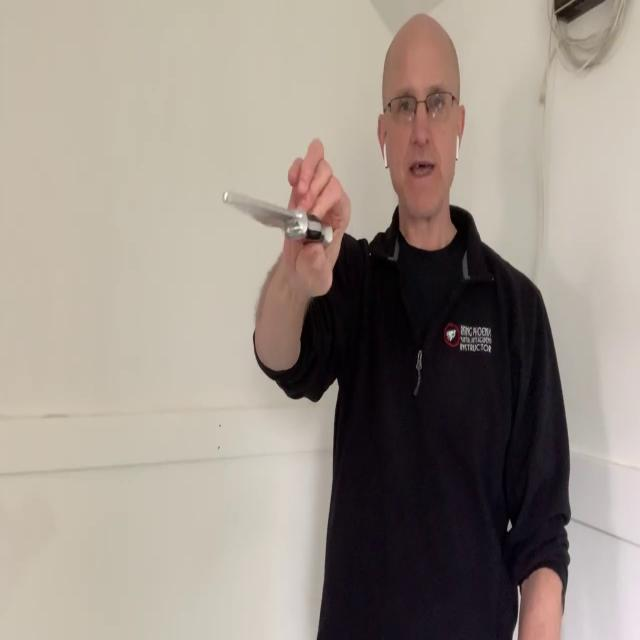Knife_Handle: (223, 137, 352, 298)
